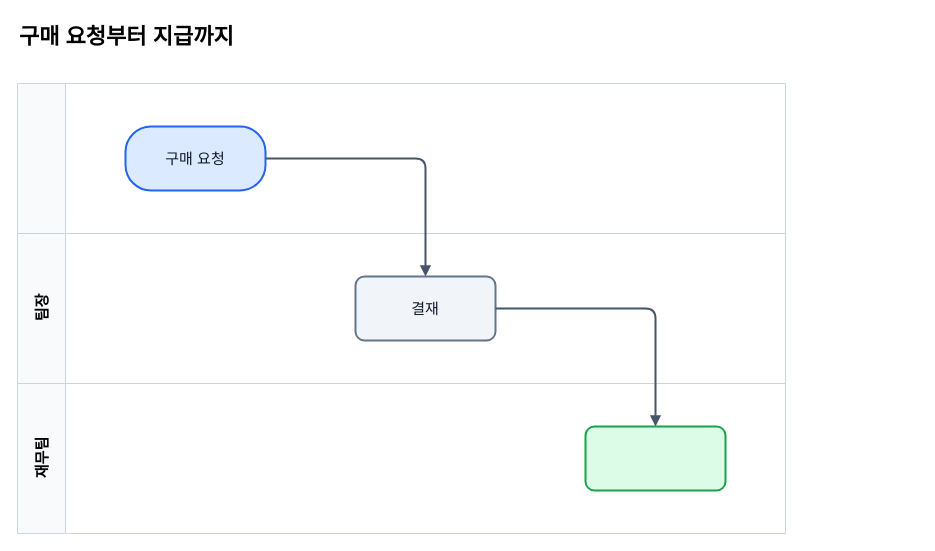
This 935x551 diagram has some shape labels left out. Here are the shapes that lost their labels. From the top down, the box of each, then its label:
(16, 82, 786, 234): 요청자
(584, 425, 726, 491): 지급
